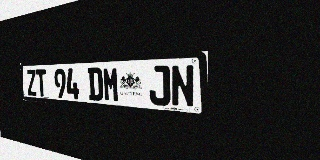4: (66, 68, 79, 99)
9: (54, 68, 67, 98)
D: (88, 67, 103, 101)
J: (149, 65, 170, 106)
M: (102, 67, 120, 102)
N: (170, 64, 195, 108)
T: (36, 69, 47, 97)
Z: (26, 69, 37, 96)
